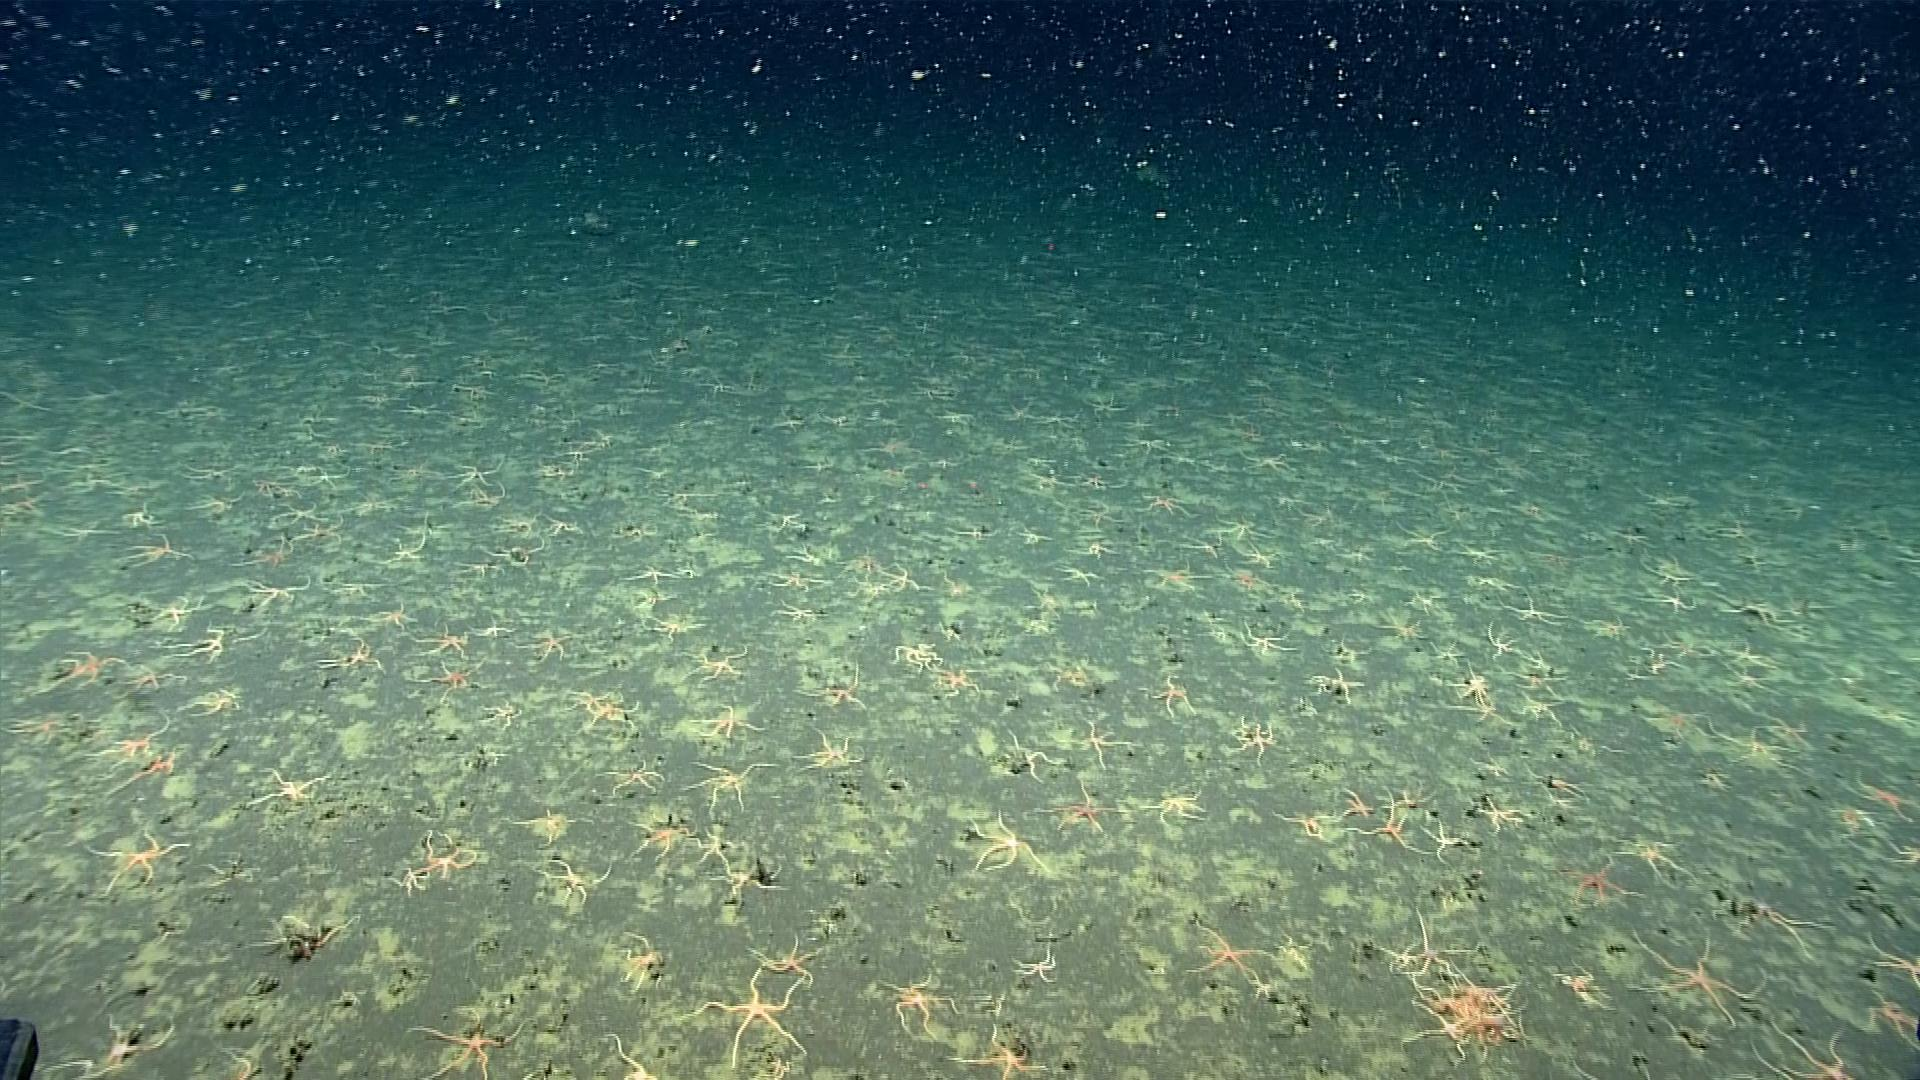brittle_sea_star: (1630, 927, 1767, 1027), (674, 971, 815, 1064), (406, 1005, 530, 1079), (82, 827, 193, 898), (59, 1015, 177, 1079), (1762, 1014, 1876, 1079), (1725, 899, 1838, 959), (1178, 916, 1271, 985), (1404, 906, 1484, 982), (1352, 795, 1437, 865), (877, 972, 967, 1038), (243, 913, 359, 961), (961, 810, 1052, 872), (1036, 779, 1131, 839), (1553, 851, 1646, 910), (683, 760, 778, 811), (1399, 998, 1474, 1062), (1710, 723, 1799, 774), (247, 764, 332, 814), (38, 646, 125, 695), (539, 856, 615, 907), (1613, 839, 1692, 886), (746, 930, 820, 980), (1002, 729, 1067, 786), (414, 658, 489, 705), (795, 659, 866, 708), (1067, 724, 1135, 774), (790, 729, 865, 774), (676, 641, 749, 687), (690, 703, 766, 746), (1846, 773, 1916, 820), (88, 720, 170, 760), (1865, 988, 1919, 1047), (617, 931, 670, 992), (629, 818, 699, 862), (108, 753, 174, 799), (705, 860, 785, 898), (508, 807, 591, 843), (419, 829, 479, 878), (228, 534, 303, 572), (123, 531, 195, 571), (1236, 617, 1300, 661), (1867, 935, 1919, 988), (596, 758, 665, 796), (1232, 717, 1282, 769), (164, 622, 224, 665), (587, 1044, 666, 1076), (510, 630, 580, 666), (977, 1027, 1033, 1072), (236, 576, 311, 609), (5, 713, 78, 746), (1011, 940, 1062, 988), (1556, 961, 1602, 1011), (1141, 791, 1211, 824), (1271, 807, 1336, 843), (1379, 783, 1441, 819), (318, 640, 384, 673), (1146, 678, 1200, 717), (1146, 560, 1211, 593), (1448, 662, 1498, 704), (1422, 822, 1473, 862), (1476, 796, 1527, 837), (472, 541, 547, 568), (934, 669, 998, 700), (1375, 612, 1431, 649), (409, 628, 471, 661), (1721, 597, 1791, 626), (117, 667, 175, 702), (142, 596, 204, 628), (1507, 597, 1564, 632), (1331, 786, 1378, 827), (182, 687, 243, 719), (1445, 698, 1509, 728), (1311, 671, 1366, 705), (1481, 624, 1532, 661), (890, 641, 943, 676), (1643, 559, 1700, 592), (382, 529, 429, 568), (691, 825, 735, 866), (583, 700, 641, 731), (295, 516, 345, 550), (446, 462, 504, 491), (361, 604, 421, 632), (646, 613, 704, 641), (769, 597, 827, 625), (762, 571, 833, 593), (874, 563, 924, 595), (1215, 516, 1269, 545), (1234, 541, 1286, 571), (270, 501, 326, 529), (1516, 696, 1565, 727), (1138, 492, 1193, 518), (622, 564, 683, 588), (1638, 592, 1701, 615), (1300, 607, 1342, 640), (1511, 673, 1567, 698), (1183, 531, 1228, 562), (1425, 638, 1468, 670), (1047, 662, 1091, 692), (1377, 940, 1419, 971), (1730, 670, 1775, 698), (1406, 527, 1451, 555), (390, 865, 431, 895), (1540, 775, 1582, 802), (538, 516, 582, 539), (1469, 575, 1518, 596), (1589, 618, 1630, 644), (1457, 546, 1501, 568), (1644, 654, 1685, 678), (1891, 841, 1919, 874), (1058, 567, 1098, 588), (1731, 645, 1766, 670), (1406, 591, 1441, 615), (1693, 770, 1730, 791), (1342, 583, 1373, 608), (1013, 529, 1051, 547), (1081, 541, 1118, 559), (1704, 645, 1729, 669), (1523, 655, 1556, 671)
